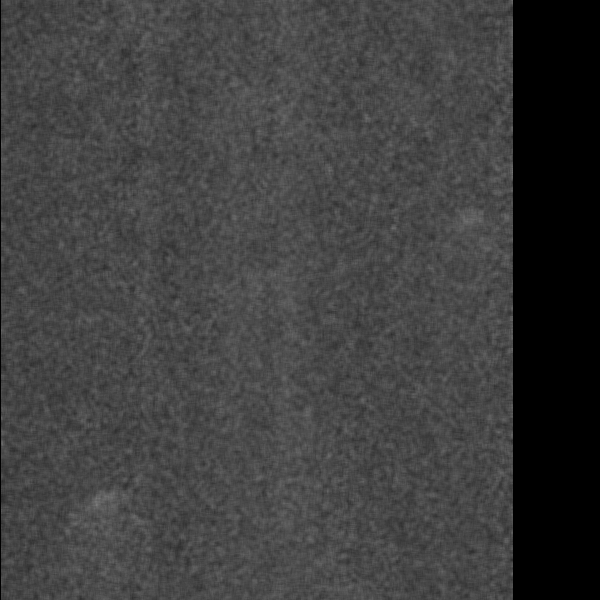spark: (272, 167, 291, 228)
